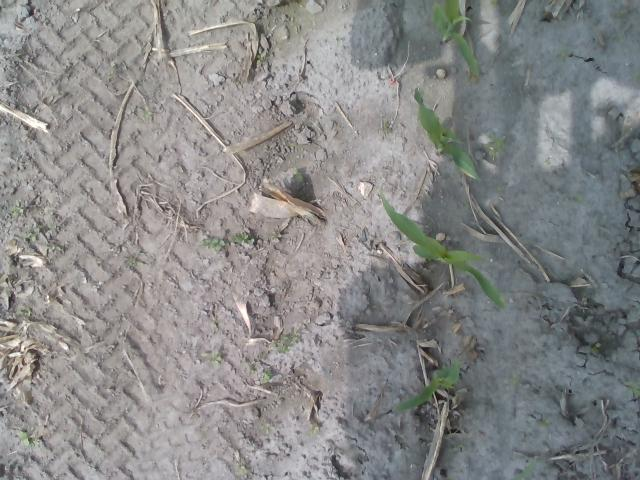Maize: (380, 196, 508, 310), (428, 0, 489, 122), (412, 86, 482, 184), (397, 362, 466, 412)
Weeds: (512, 457, 546, 480), (270, 333, 303, 353), (197, 236, 226, 253), (232, 230, 255, 248), (13, 430, 34, 449), (488, 137, 507, 157), (24, 224, 40, 243), (208, 352, 224, 368), (625, 380, 640, 394), (128, 258, 145, 268), (308, 422, 321, 435), (44, 245, 63, 253), (260, 370, 275, 380), (261, 422, 272, 434), (141, 106, 152, 118), (10, 206, 22, 216), (507, 374, 519, 384), (538, 419, 550, 429), (238, 464, 249, 474), (592, 342, 602, 352)
